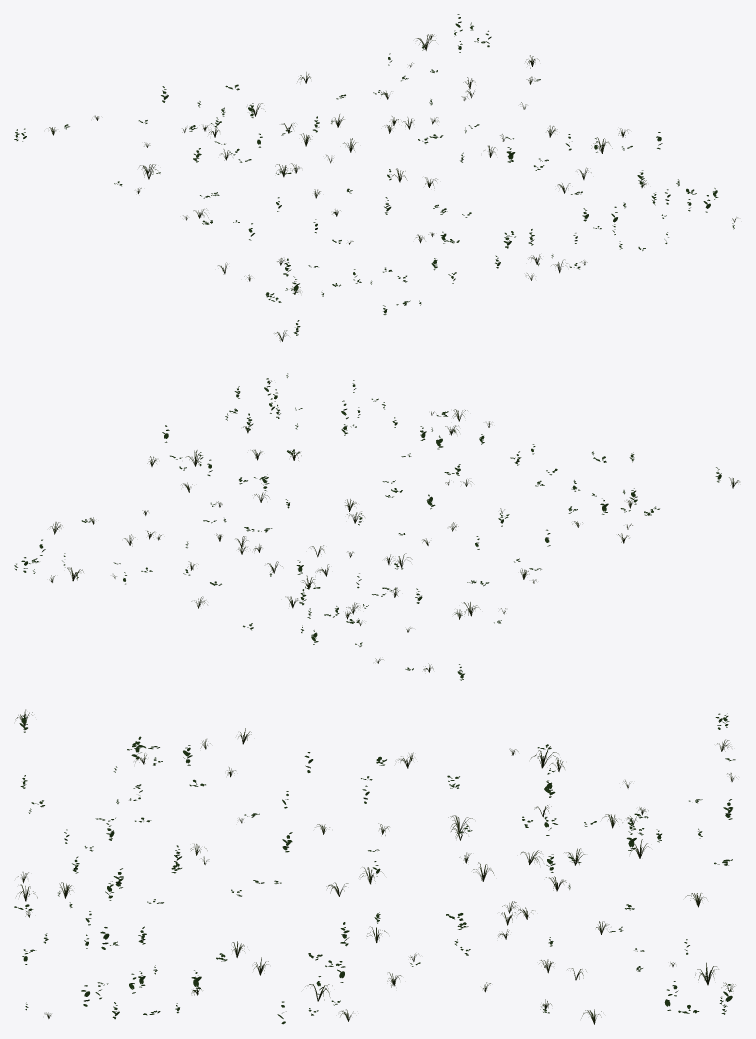
The model's file is weeds_+00+00_foliage.dae.
The picture shows the model from 3 angles, top to bottom: view 1: azimuth 30°, elevation 25°; view 2: azimuth 150°, elevation 25°; view 3: azimuth 270°, elevation 25°; orthographic projection. The views are drawn at different scales.
Parts seen in each view (by area): view 1: weeds_+00+00_foliage; view 2: weeds_+00+00_foliage; view 3: weeds_+00+00_foliage.
Boxes of the visible parts, <box> form: weeds_+00+00_foliage: <box>14,14,737,341</box>; weeds_+00+00_foliage: <box>14,373,739,680</box>; weeds_+00+00_foliage: <box>14,709,736,1024</box>.
Size of the model in its own units: 10.11 by 10.08 by 0.4793.
